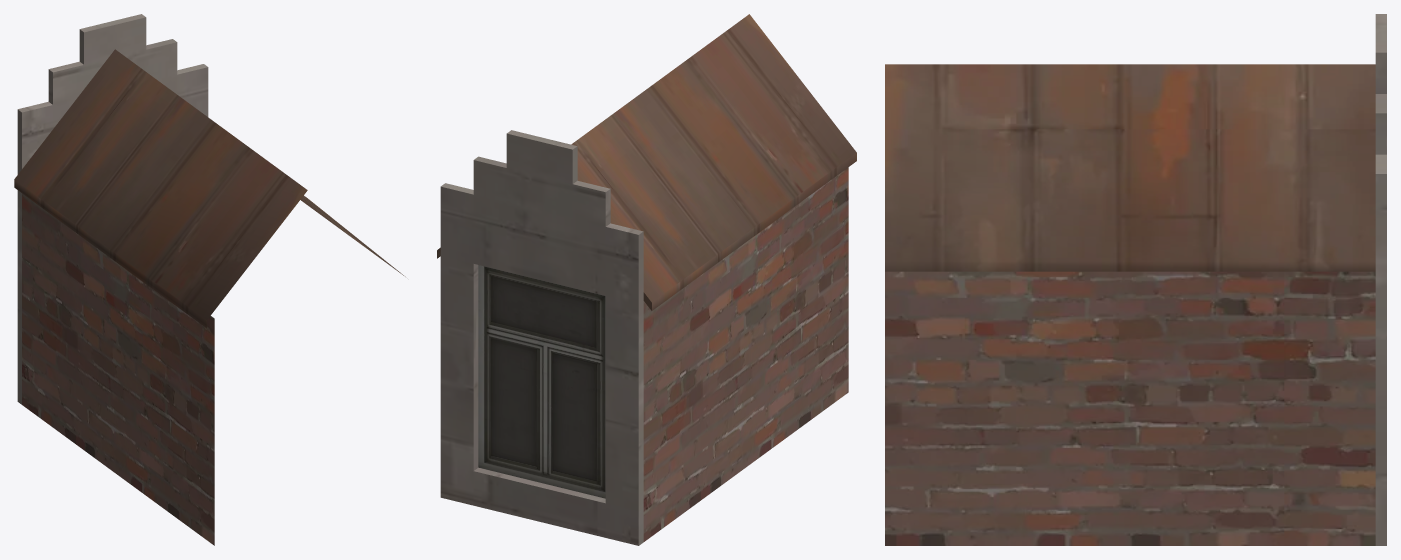
The picture shows the model from 3 angles, left to right: view 1: azimuth 30°, elevation 25°; view 2: azimuth 150°, elevation 25°; view 3: azimuth 270°, elevation 25°; orthographic projection. The views are drawn at different scales.
Visible parts, largest first — view 1: body0_model0_lod0_mesh1, body0_model0_lod0_mesh3, body0_model0_lod0_mesh0; view 2: body0_model0_lod0_mesh3, body0_model0_lod0_mesh0, body0_model0_lod0_mesh1, body0_model0_lod0_mesh2; view 3: body0_model0_lod0_mesh3, body0_model0_lod0_mesh1, body0_model0_lod0_mesh0.
Boxes of the visible parts, <box> form: body0_model0_lod0_mesh1: <box>14,49,405,328</box>; body0_model0_lod0_mesh3: <box>22,193,214,545</box>; body0_model0_lod0_mesh0: <box>17,14,208,404</box>; body0_model0_lod0_mesh3: <box>643,167,848,541</box>; body0_model0_lod0_mesh0: <box>440,130,643,545</box>; body0_model0_lod0_mesh1: <box>437,14,856,310</box>; body0_model0_lod0_mesh2: <box>478,265,605,498</box>; body0_model0_lod0_mesh3: <box>885,271,1375,545</box>; body0_model0_lod0_mesh1: <box>885,64,1375,271</box>; body0_model0_lod0_mesh0: <box>1375,14,1386,545</box>.
Size of the model in its own units: 104 by 176 by 176.
4 materials, 4 textured.
